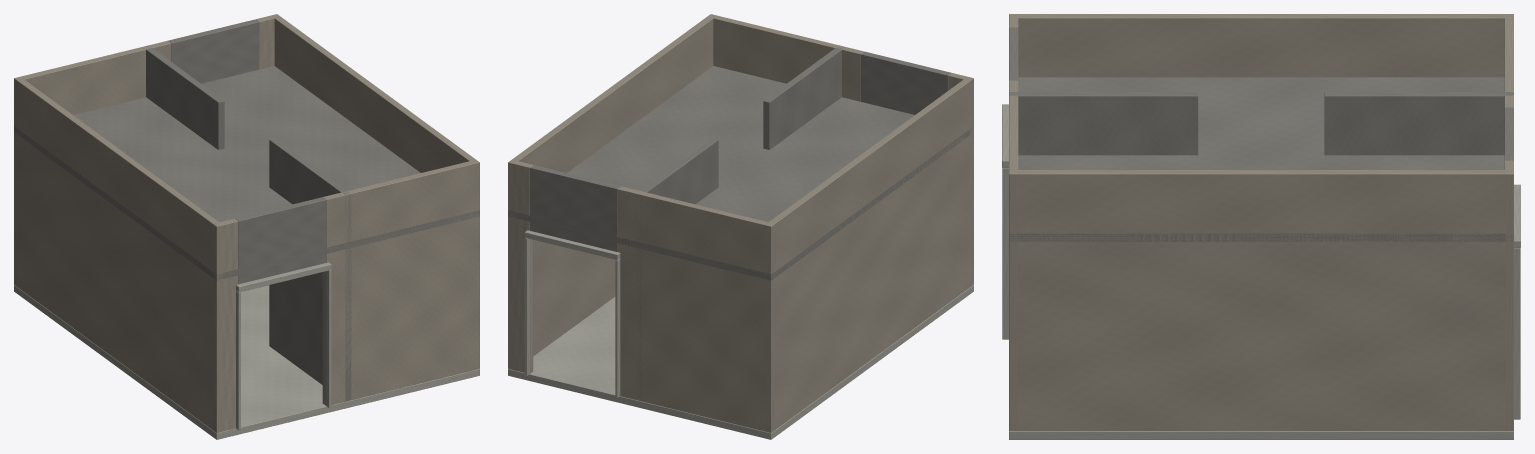
The model's file is I02_DoglegPassage_visual.glb.
The picture shows the model from 3 angles, left to right: view 1: azimuth 30°, elevation 25°; view 2: azimuth 150°, elevation 25°; view 3: azimuth 270°, elevation 25°; orthographic projection. The views are drawn at different scales.
Visible parts, largest first — view 1: I02_DoglegPassage__VIS_shell, I02_DoglegPassage__VIS_roof; view 2: I02_DoglegPassage__VIS_shell, I02_DoglegPassage__VIS_roof; view 3: I02_DoglegPassage__VIS_shell, I02_DoglegPassage__VIS_roof.
Part boxes in pixels (box(x1,y1,x2,y2)): I02_DoglegPassage__VIS_shell: box(14, 14, 479, 439); I02_DoglegPassage__VIS_roof: box(14, 66, 479, 280); I02_DoglegPassage__VIS_shell: box(508, 14, 973, 439); I02_DoglegPassage__VIS_roof: box(508, 66, 970, 280); I02_DoglegPassage__VIS_shell: box(1002, 14, 1520, 439); I02_DoglegPassage__VIS_roof: box(1009, 77, 1513, 241).
Bounding box in the file's own units: 24 × 18.6 × 32.86.
1 material, 1 textured.
